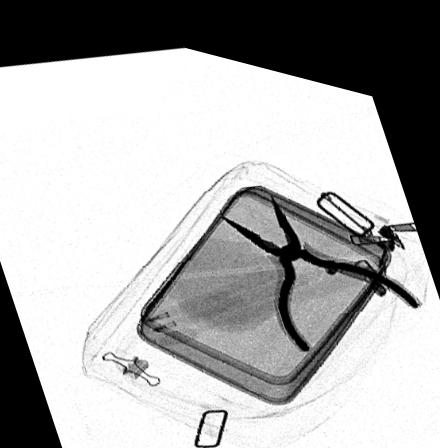Pliers: (215, 177, 425, 339)
